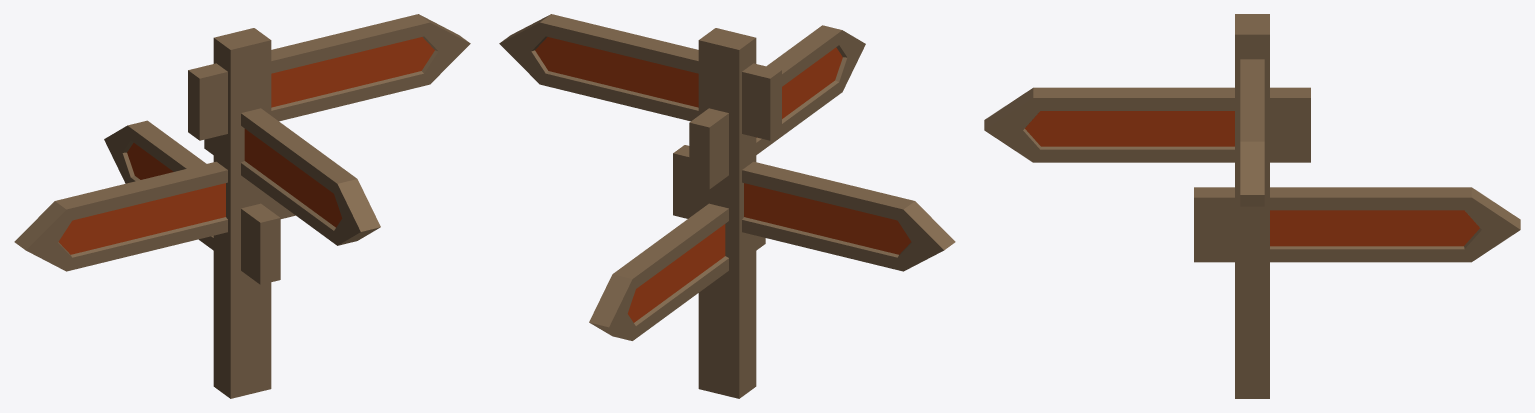
Rendered from SM_SignBoard_01_C.fbx.
The picture shows the model from 3 angles, left to right: view 1: azimuth 30°, elevation 25°; view 2: azimuth 150°, elevation 25°; view 3: azimuth 270°, elevation 25°; orthographic projection. The views are drawn at different scales.
Parts seen in each view (by area): view 1: pCube729; view 2: pCube729; view 3: pCube729.
Boxes of the visible parts, box(x1,y1,x2,y2) form: pCube729: box(14, 14, 470, 398); pCube729: box(499, 14, 955, 398); pCube729: box(984, 14, 1520, 398).
Size of the model in its own units: 198 by 148 by 198.
1 material, 1 textured.
